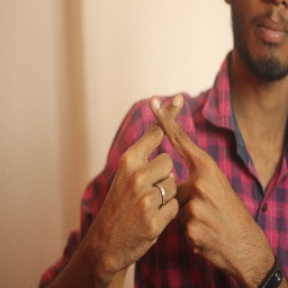X: (113, 77, 221, 194)
